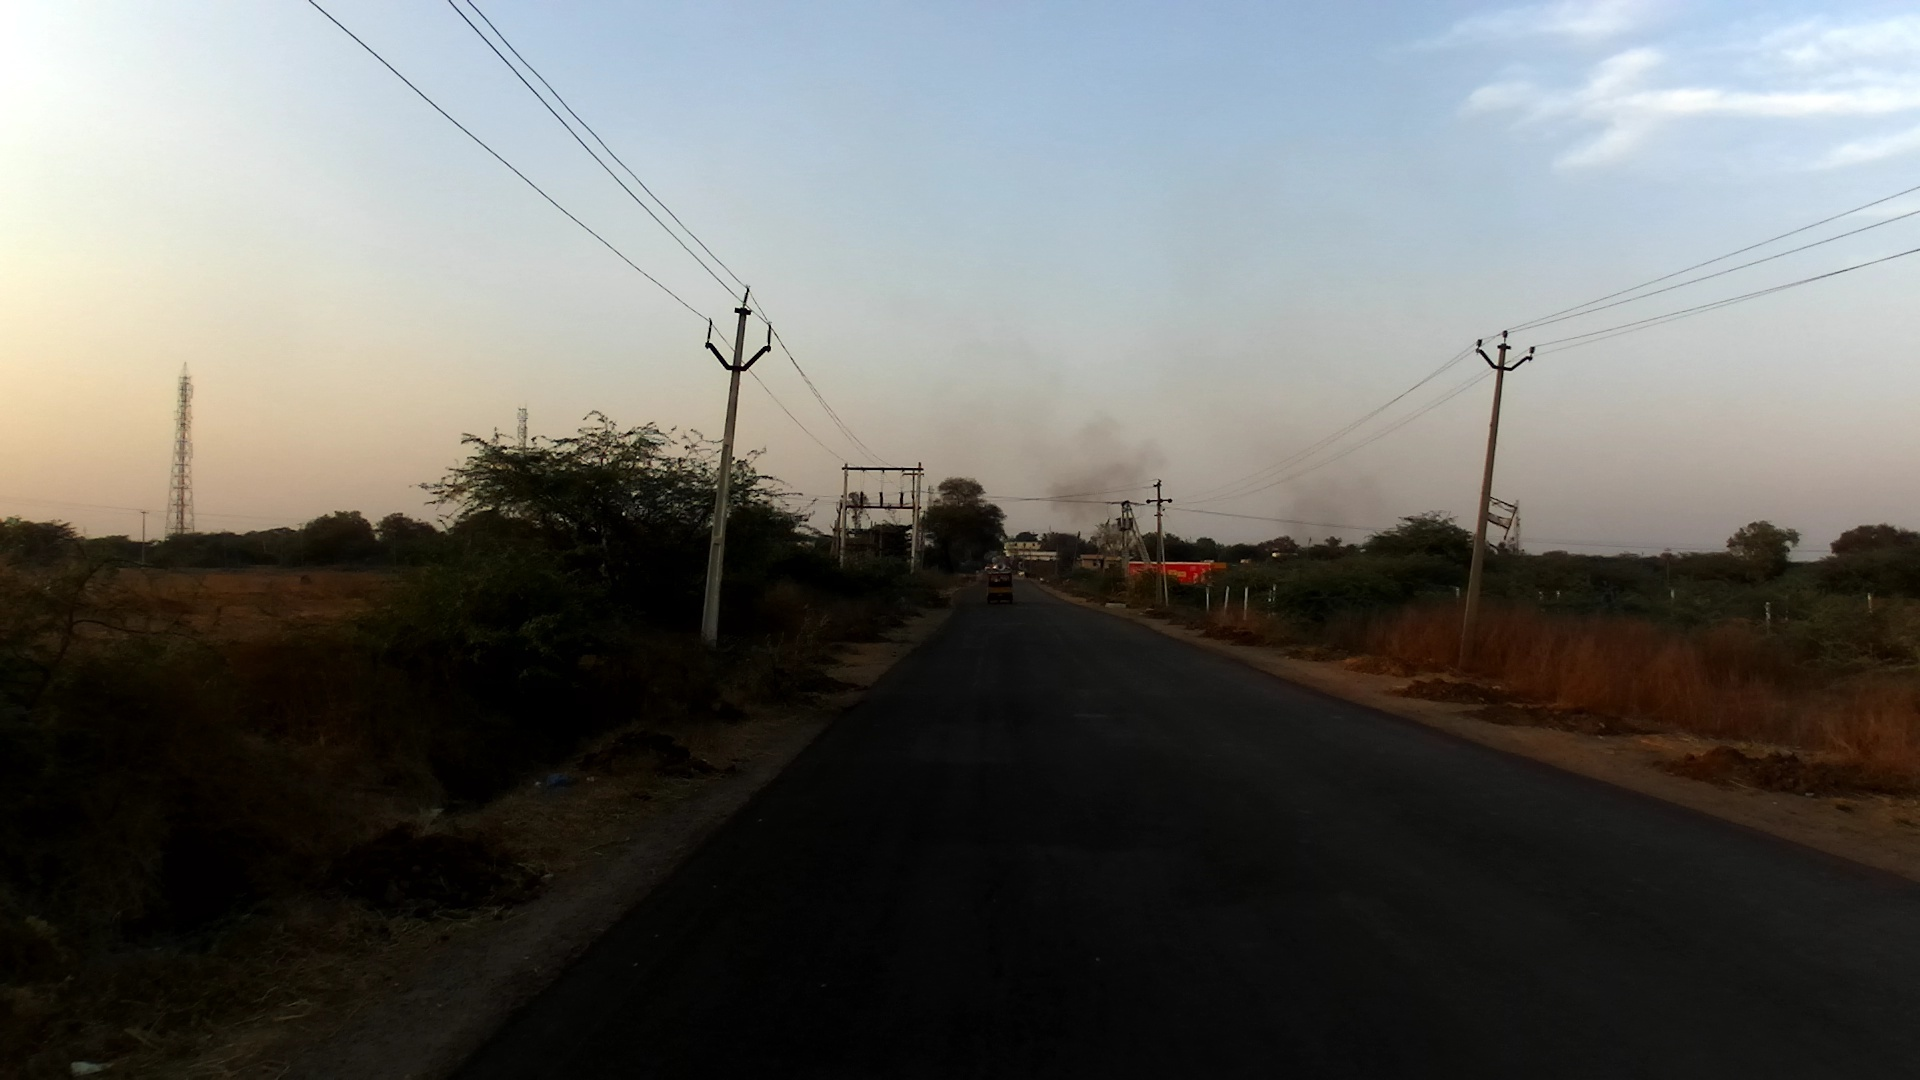autorickshaw: (985, 563, 1015, 604)
vehicle fallback: (982, 563, 990, 578)
